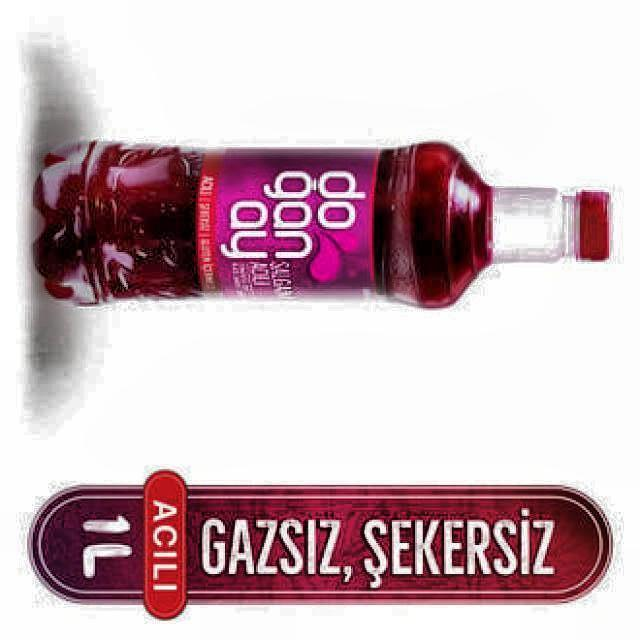plastic: (32, 141, 609, 308)
